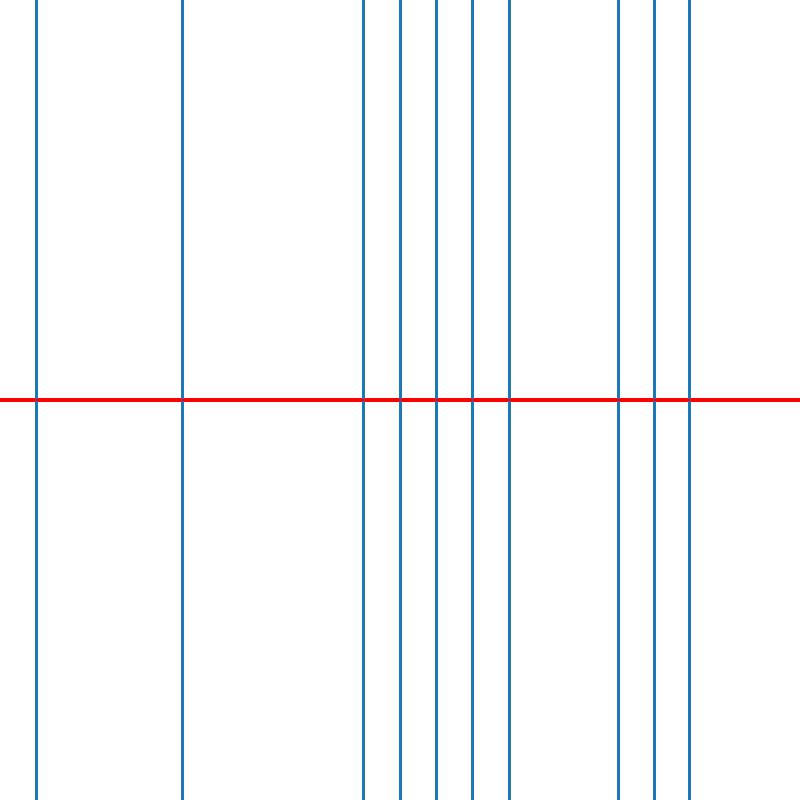root: (650, 396, 658, 404), (432, 396, 440, 404), (32, 396, 40, 404), (178, 396, 185, 404), (360, 396, 367, 404), (505, 396, 512, 404), (469, 396, 476, 404), (614, 396, 621, 404), (687, 396, 694, 404), (396, 396, 403, 404)
